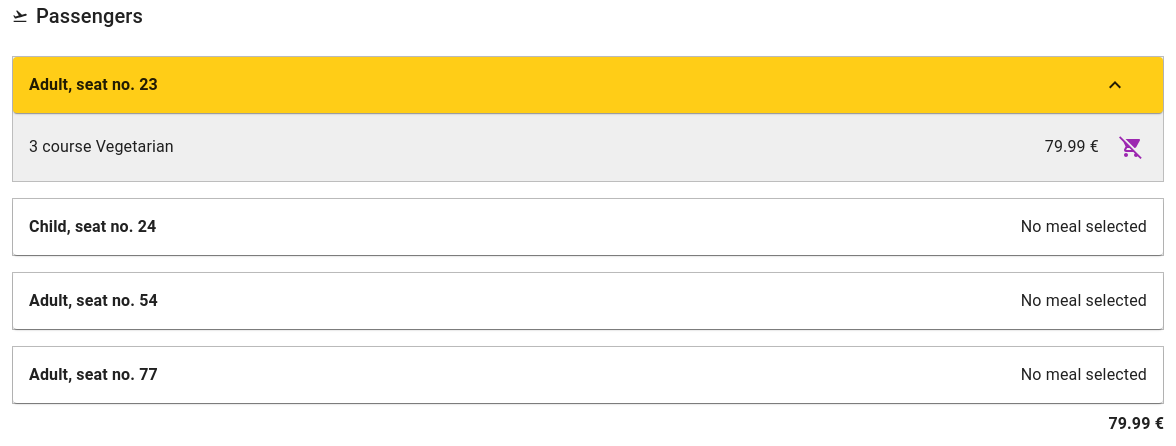
PassengerList › Given a remove meal button is clicked for a passenger with selected meal then meal should no longer be visible
Click the button with test id "RemoveShoppingCartIcon": [1131, 147] box [1099, 129, 1163, 165]
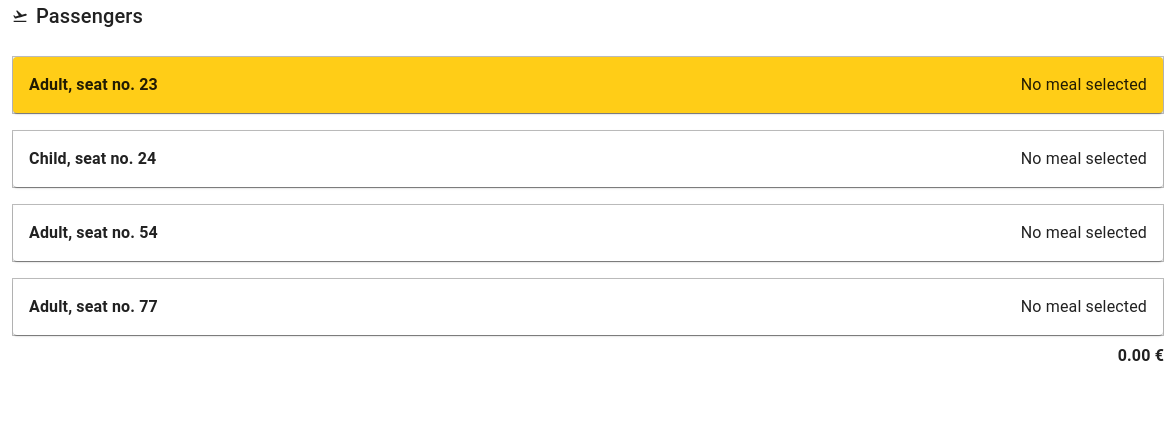
expect the text "3 course Vegetarian" is gone: met
